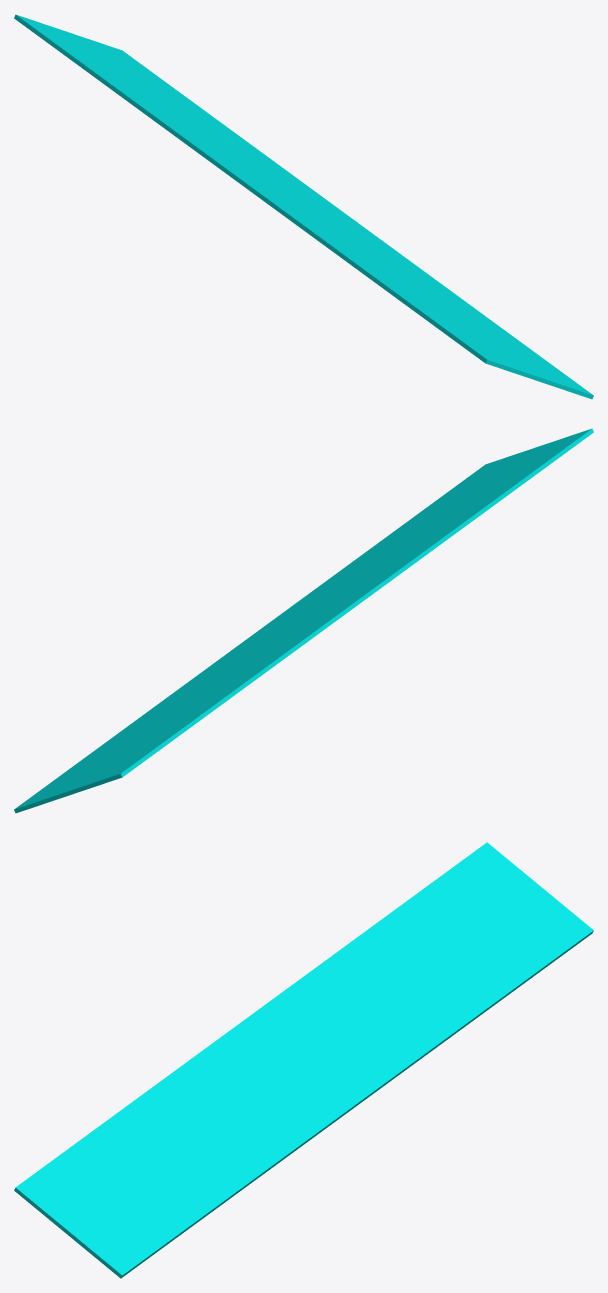
Rendered from SPintSGlassFront.fbx.
3 renders of one model, top to bottom at view 1: azimuth 30°, elevation 25°; view 2: azimuth 150°, elevation 25°; view 3: azimuth 330°, elevation 25°, orthographic.
Parts seen in each view (by area): view 1: polySurface150; view 2: polySurface150; view 3: polySurface150.
Boxes of the visible parts, x1=… form: polySurface150: x1=14, y1=14, x2=593, y2=399; polySurface150: x1=14, y1=428, x2=593, y2=813; polySurface150: x1=14, y1=842, x2=593, y2=1278.
Bounding box in the file's own units: 131 × 75.84 × 988.
